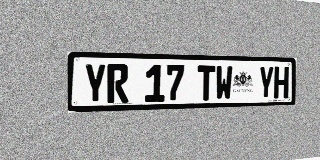1: (145, 64, 165, 102)
7: (165, 65, 184, 102)
H: (274, 66, 289, 99)
R: (107, 64, 128, 103)
T: (197, 65, 215, 101)
W: (215, 66, 233, 100)
Y: (84, 63, 106, 104), (258, 66, 274, 99)
